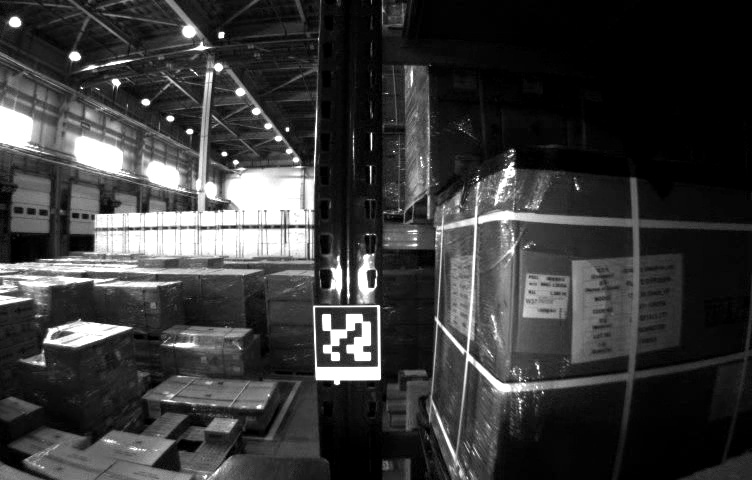True Barcode: (522, 273, 569, 321)
